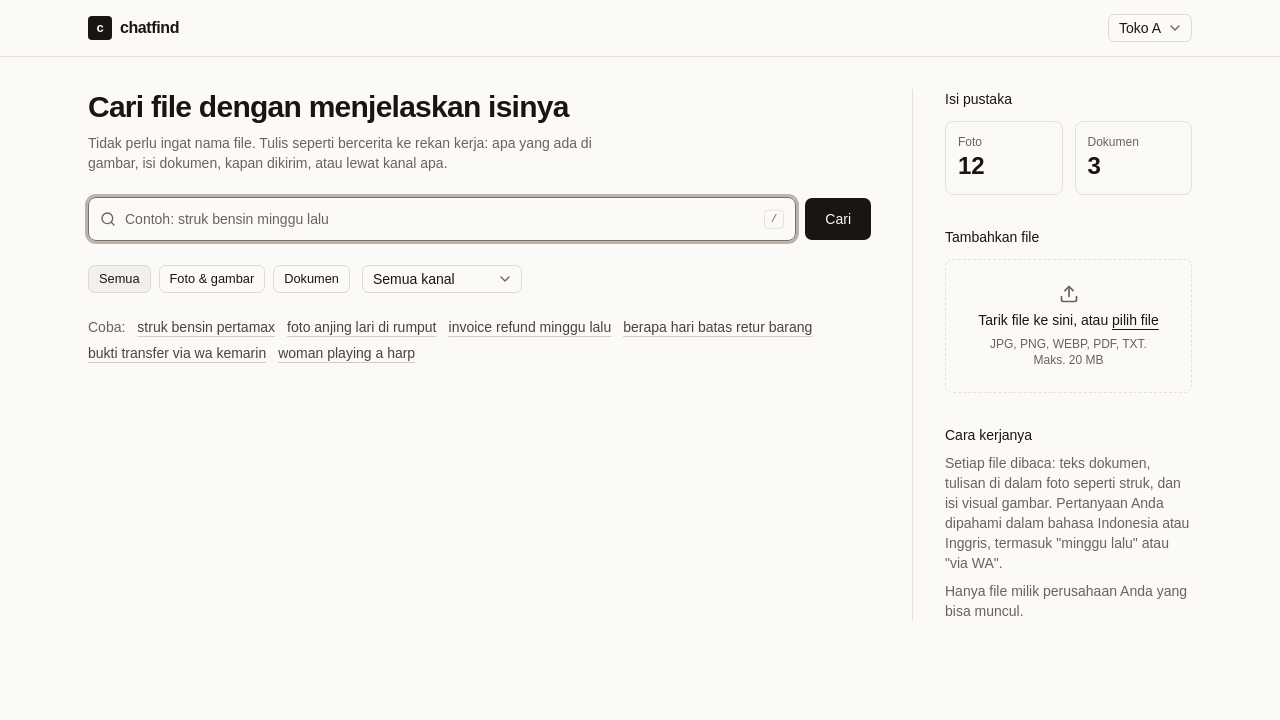
Test: App › shows the server's error
This screenshot has width=1280, height=720.
Check: the text with test id "stat-image" reads "12", box [958,152,985,179]
Step 1. Type "struk bensin" into the field with test id "search-input" → (442, 219), box [88,197,796,241]
Then press Enter
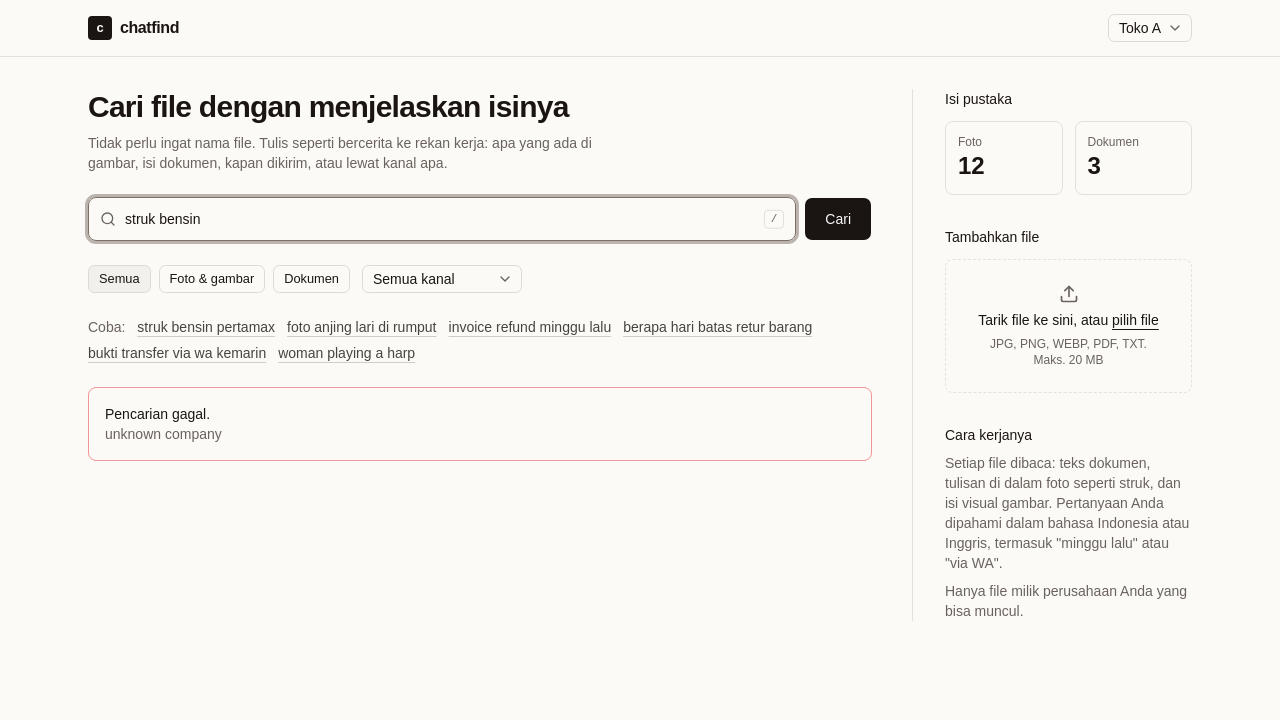
Check: the message with test id "error" shows "unknown company", box [105,426,222,442]
